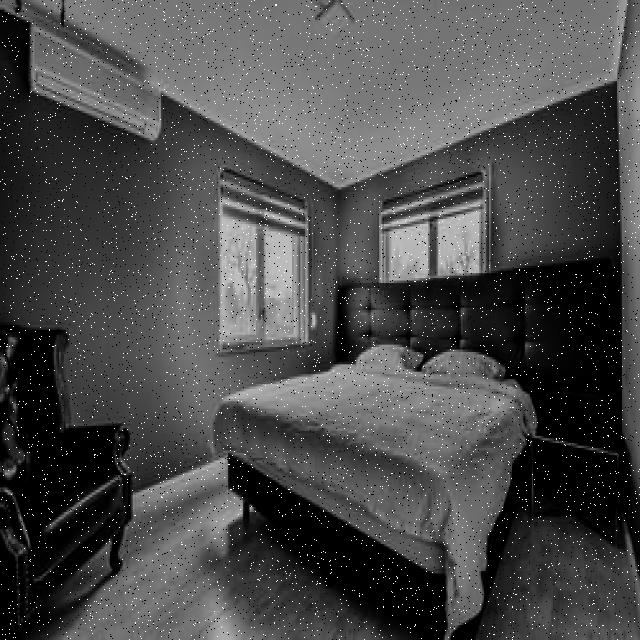bed: (211, 339, 528, 595)
